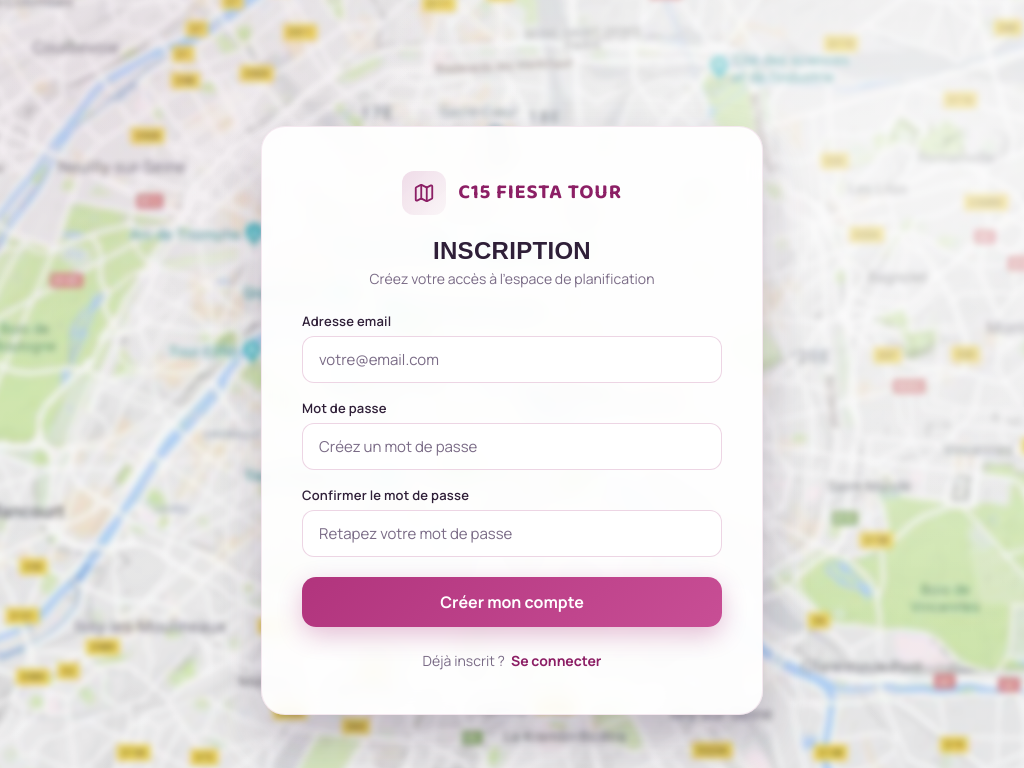
Scenario: RegisterPage › affiche une erreur si les mots de passe ne correspondent pas
In the field labelled "Adresse email": (512, 359) [302,336,722,382], type "john@example.com"
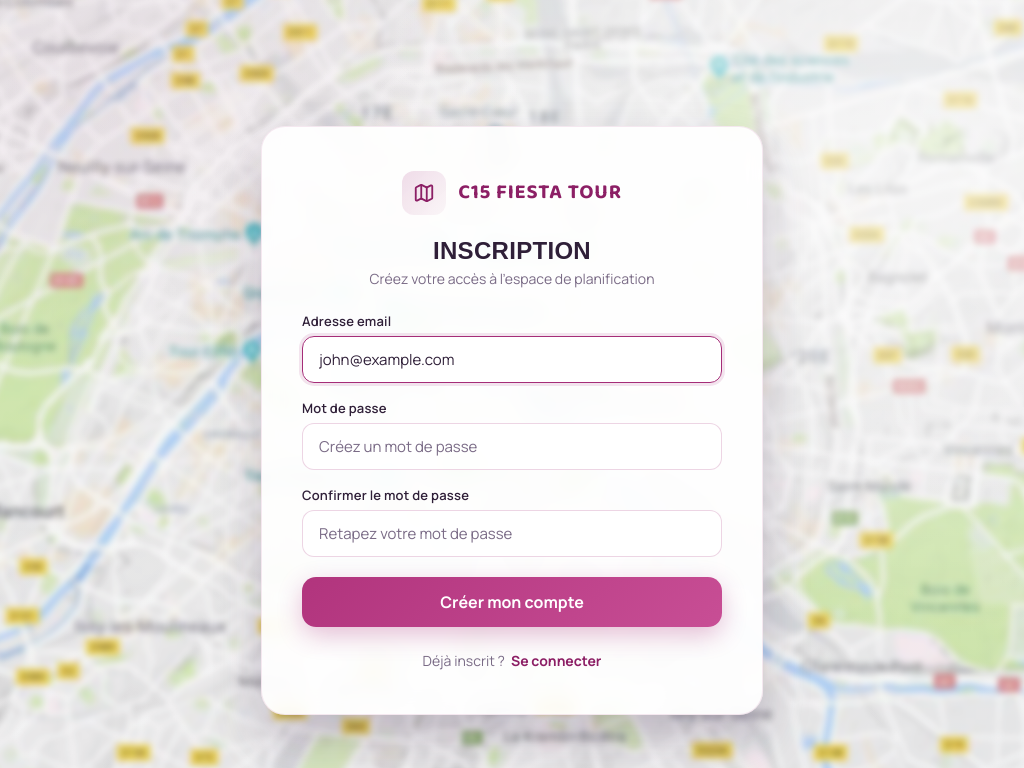
In the password field labelled "Mot de passe": (512, 446) [302,422,722,470], type "Password1"
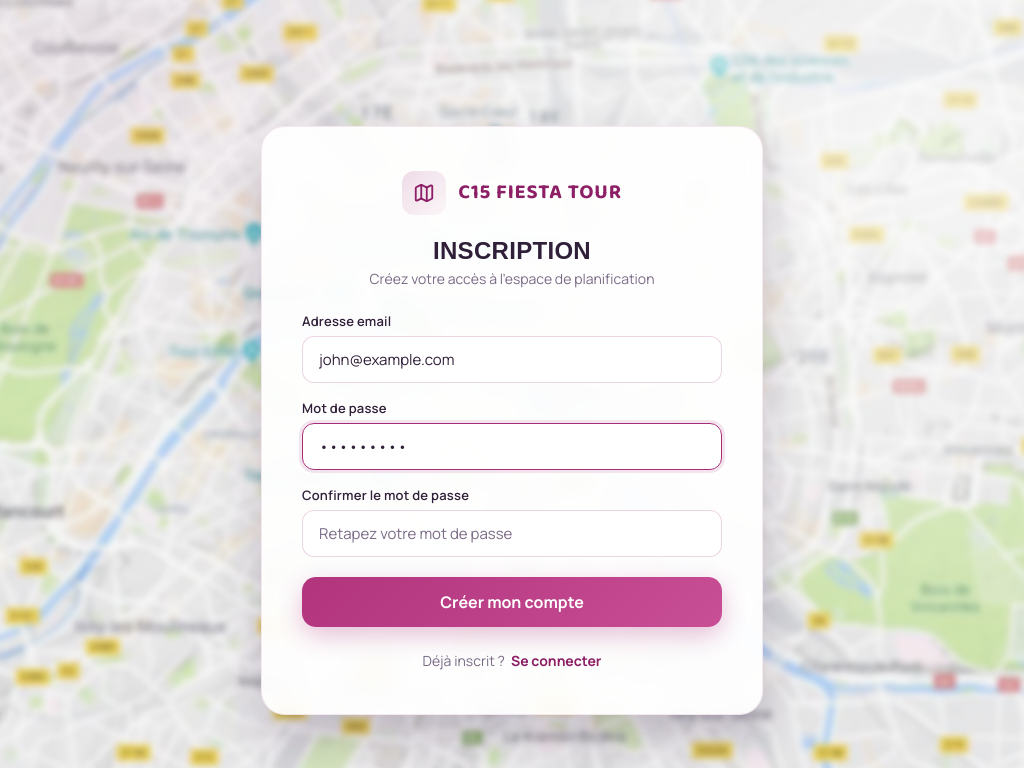
In the password field labelled "Confirmer le mot de passe": (512, 533) [302,510,722,556], type "different"
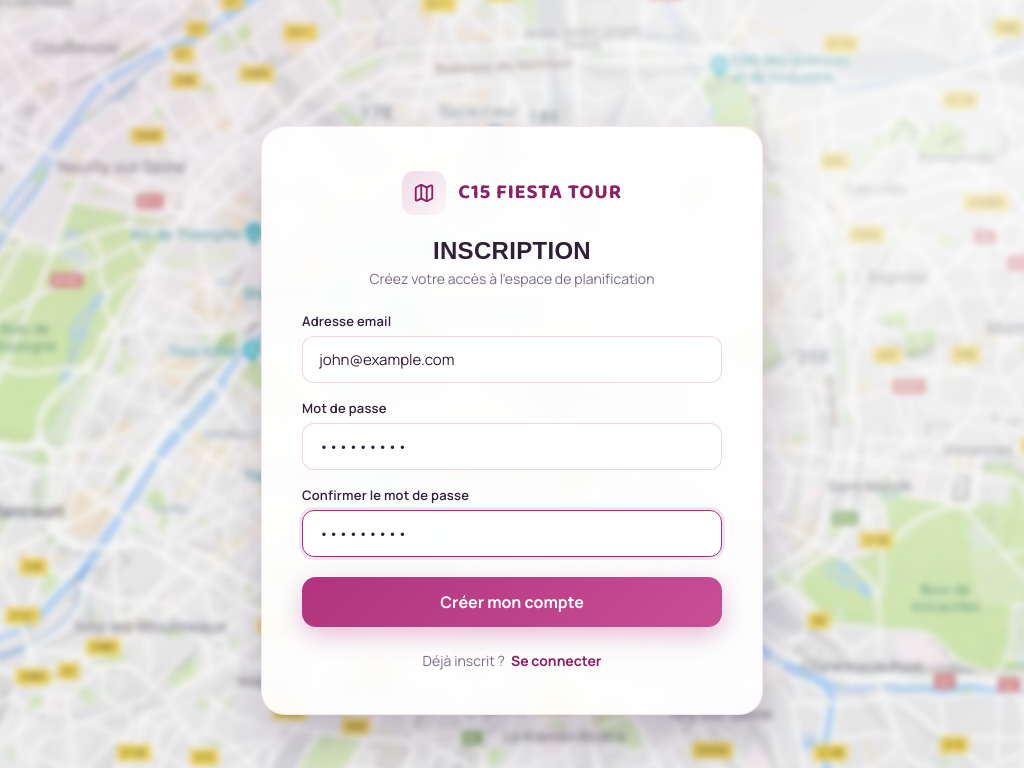
Click the button "Créer mon compte": (512, 602) [302,576,722,626]
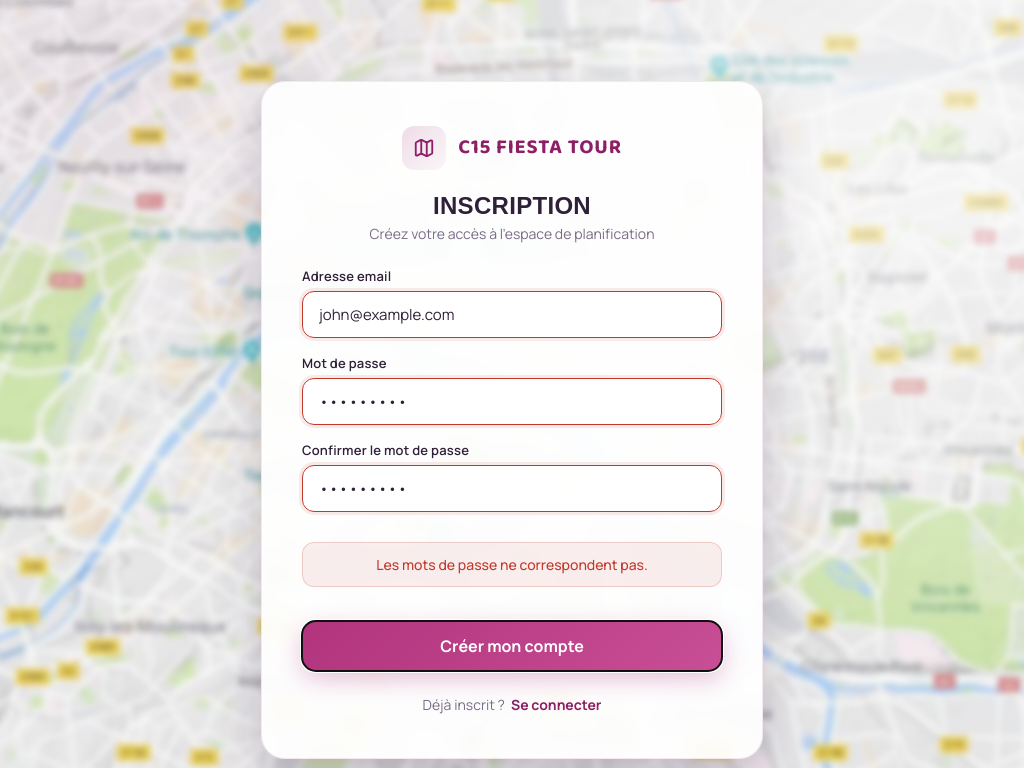
Now the text "Les mots de passe ne correspondent pas." is shown, box [302,542,722,587]
